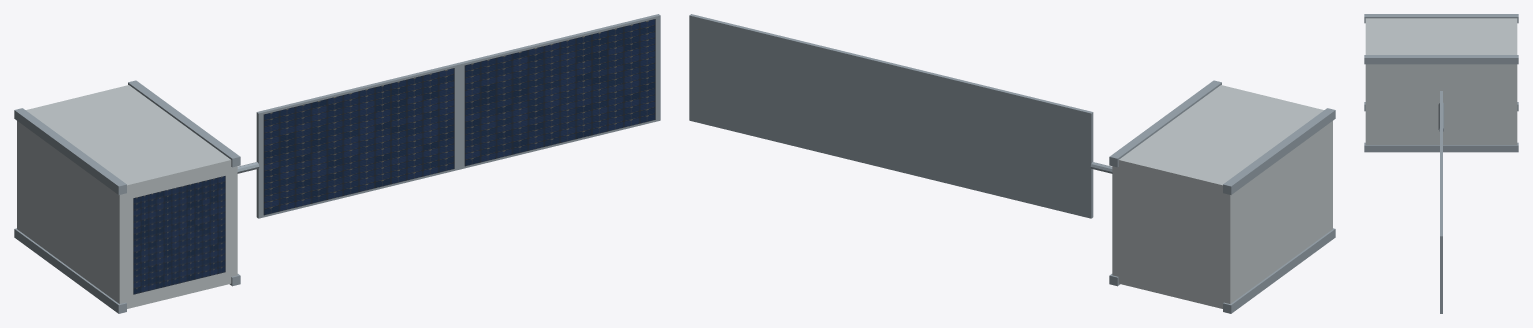
Rendered from ref-cubesat-6u-43485.glb.
3 renders of one model, left to right at view 1: azimuth 30°, elevation 25°; view 2: azimuth 150°, elevation 25°; view 3: azimuth 270°, elevation 25°, orthographic. The views are drawn at different scales.
Visible parts, largest first — view 1: Photovoltaic laminates (×2), Spacecraft body, Body-mounted cells, Array frame (×2), Dispenser rail (×3); view 2: Array frame (×2), Spacecraft body, Dispenser rail (×3); view 3: Spacecraft body, Dispenser rail (×3), Array frame (×2).
Part boxes in pixels (bbox=[...]): Photovoltaic laminates (×2): bbox=[263, 19, 655, 215]; Spacecraft body: bbox=[17, 85, 237, 308]; Body-mounted cells: bbox=[133, 176, 225, 294]; Array frame (×2): bbox=[256, 14, 660, 218]; Dispenser rail (×3): bbox=[14, 80, 240, 313]; Array frame (×2): bbox=[689, 14, 1093, 218]; Spacecraft body: bbox=[1112, 85, 1332, 308]; Dispenser rail (×3): bbox=[1109, 80, 1335, 313]; Spacecraft body: bbox=[1365, 18, 1517, 144]; Dispenser rail (×3): bbox=[1364, 14, 1518, 152]; Array frame (×2): bbox=[1440, 91, 1442, 313].
Size of the model in its own units: 1 by 0.206 by 0.306.
Materials: 3 (1 with a texture image).
